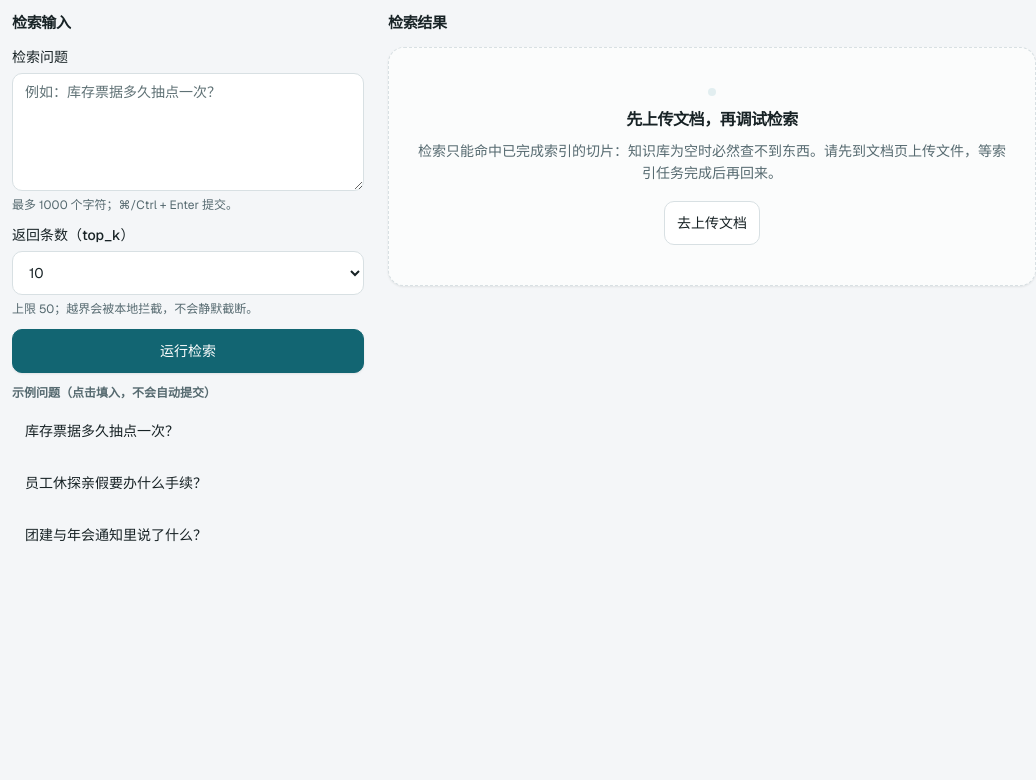
Test: features/query/QueryConsole › 403 渲染权限文案（而不是笼统的「加载失败」）
Step 1. Type "检索是怎么实现的？" into the text box labelled "检索问题" → (188, 132), box top-left (12, 72), bottom-right (364, 190)
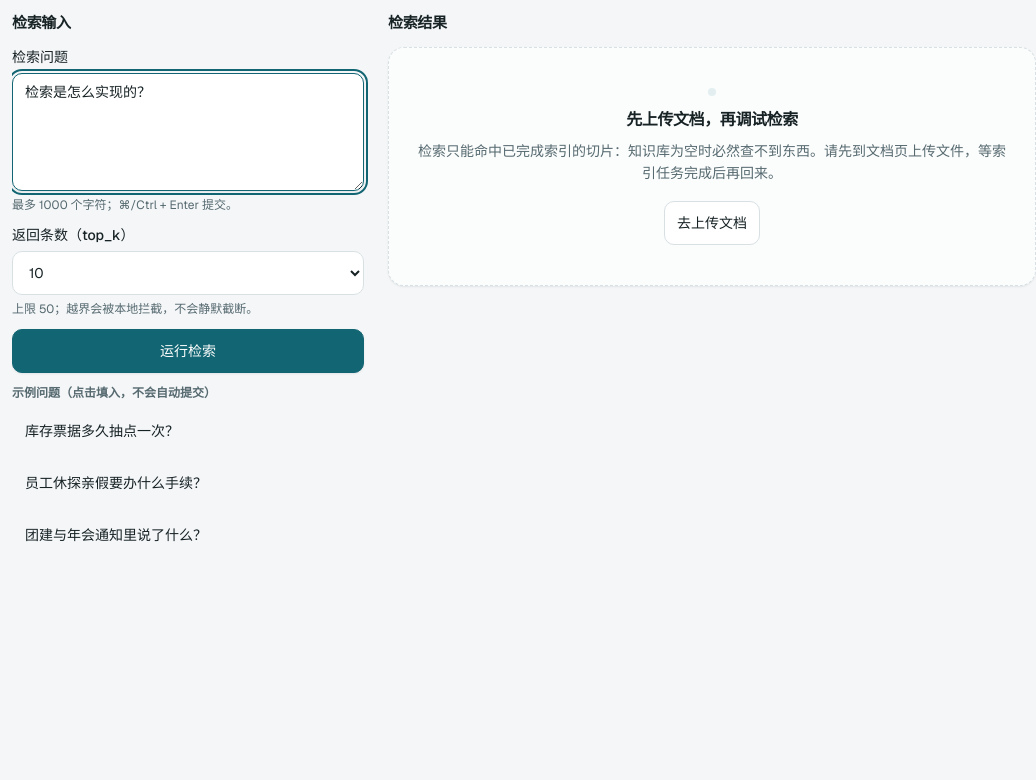
Step 2. Click the button "运行检索" → click(188, 350), box top-left (12, 328), bottom-right (364, 372)
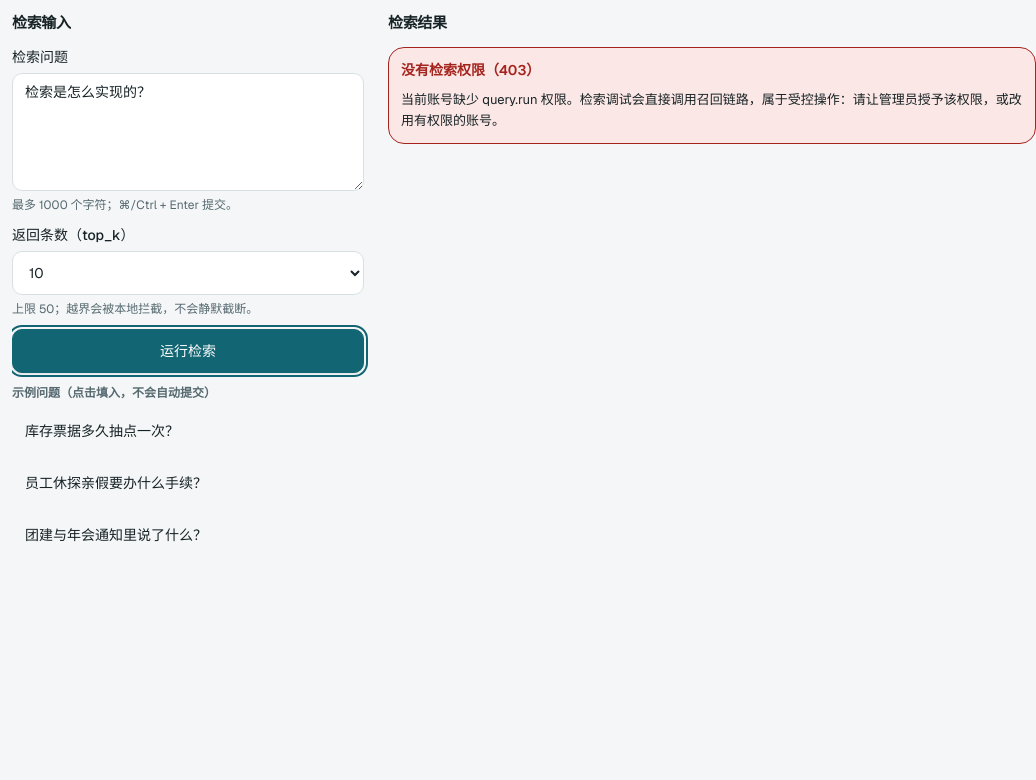
expect the heading "没有检索权限（403）" is shown: met, box top-left (401, 60), bottom-right (540, 78)
expect the text "query.run" is shown: met, box top-left (401, 90), bottom-right (1022, 129)
